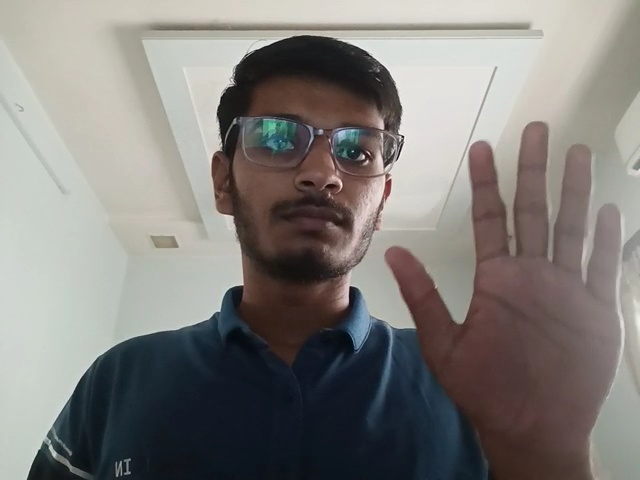Hello: (382, 118, 637, 445)
